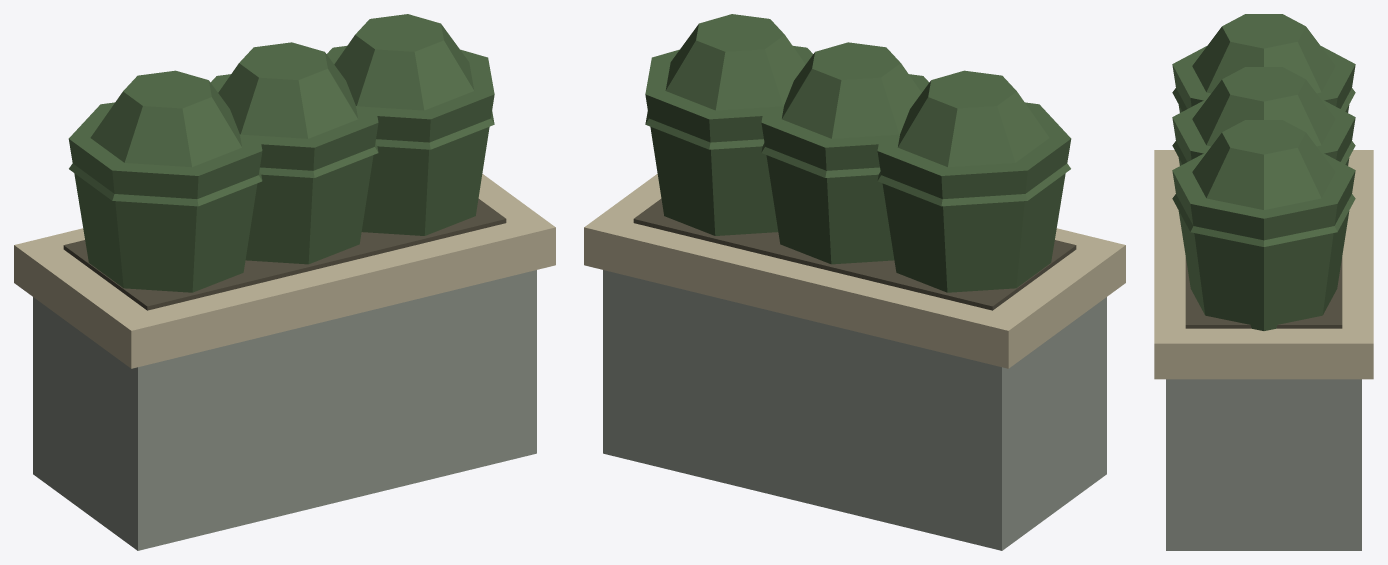
Rendered from SM_QD_StreetPark_Planter.fbx.
The picture shows the model from 3 angles, left to right: view 1: azimuth 30°, elevation 25°; view 2: azimuth 150°, elevation 25°; view 3: azimuth 270°, elevation 25°; orthographic projection. The views are drawn at different scales.
Parts seen in each view (by area): view 1: SM_QD_StreetPark_Planter; view 2: SM_QD_StreetPark_Planter; view 3: SM_QD_StreetPark_Planter.
Boxes of the visible parts, x1,y1,x2,y2 form: SM_QD_StreetPark_Planter: [14, 14, 555, 550]; SM_QD_StreetPark_Planter: [584, 14, 1125, 550]; SM_QD_StreetPark_Planter: [1154, 14, 1373, 550].
Bounding box in the file's own units: 1.17 × 0.56 × 1.06.
